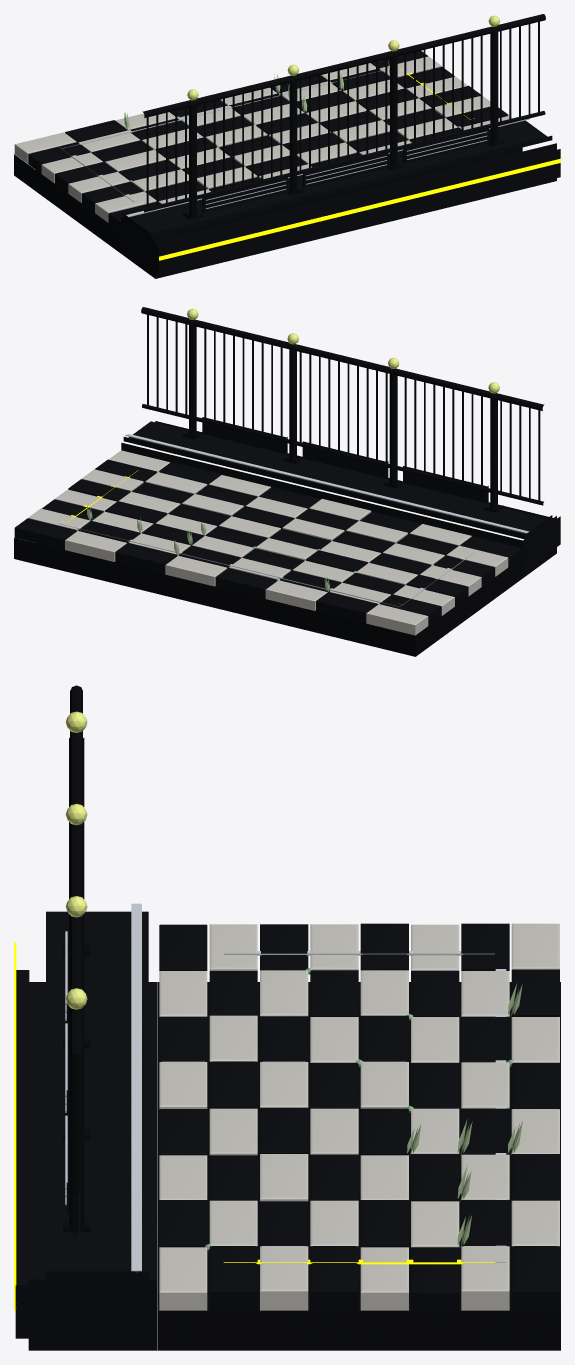
File: tt_terrace_edge.glb
3 renders of one model, top to bottom at view 1: azimuth 30°, elevation 25°; view 2: azimuth 150°, elevation 25°; view 3: azimuth 270°, elevation 25°, orthographic. The views are drawn at different scales.
Parts seen in each view (by area): view 1: Coping_Kerb, Pavers_A, Guard_Frame, Pavers_B, Kick_Panels, Deck_Slab, Coping_Line, Kick_Net_Relief, Court_Strips_White, Post_Ball_Finials; view 2: Pavers_B, Pavers_A, Guard_Frame, Coping_Kerb, Deck_Slab, Kick_Panels, Coping_Court_Line, Court_Strips_White, Post_Ball_Finials; view 3: Pavers_B, Pavers_A, Coping_Kerb, Deck_Slab, Guard_Frame, Coping_Court_Line, Joint_Tufts, Post_Ball_Finials, Coping_Line, Court_Strips_White.
Boxes of the visible parts, x1,y1,x2,y2 form: Coping_Kerb: (121,120,560,278); Pavers_A: (14,56,512,222); Guard_Frame: (142,14,545,219); Pavers_B: (28,50,508,231); Kick_Panels: (202,127,488,212); Deck_Slab: (14,147,522,253); Coping_Line: (159,158,560,260); Kick_Net_Relief: (205,131,487,208); Court_Strips_White: (59,65,402,201); Post_Ball_Finials: (187,15,499,100); Pavers_B: (14,459,521,625); Pavers_A: (28,450,508,635); Guard_Frame: (141,307,544,512); Coping_Kerb: (121,421,560,577); Deck_Slab: (14,538,522,656); Kick_Panels: (202,417,488,502); Coping_Court_Line: (125,433,529,533); Court_Strips_White: (59,523,474,606); Post_Ball_Finials: (187,308,499,393); Pavers_B: (159,923,559,1310); Pavers_A: (159,923,559,1310); Coping_Kerb: (15,911,157,1350); Deck_Slab: (157,982,560,1350); Guard_Frame: (63,685,90,1237); Coping_Court_Line: (131,903,141,1272); Joint_Tufts: (407,984,522,1247); Post_Ball_Finials: (65,711,87,1009); Coping_Line: (14,942,16,1310); Court_Strips_White: (223,951,506,1262).
Size of what is drawn, in the model's own units: 4 by 1.6 by 2.51.
8 materials, 3 textured.
